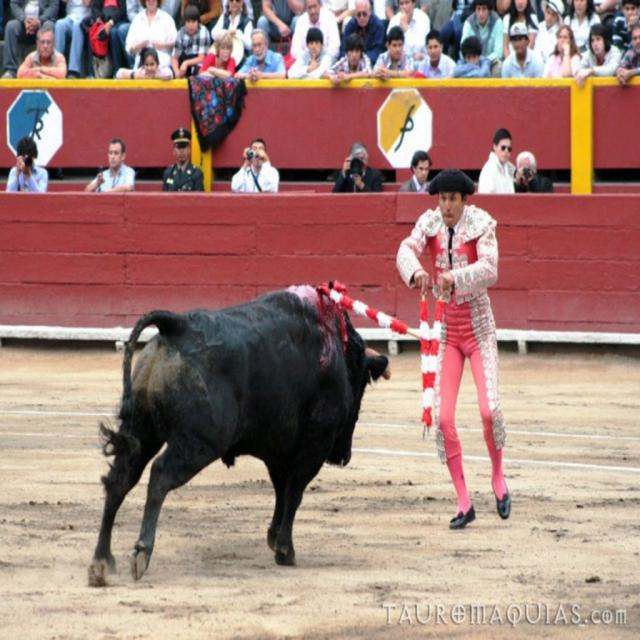Bull: (84, 278, 390, 586)
